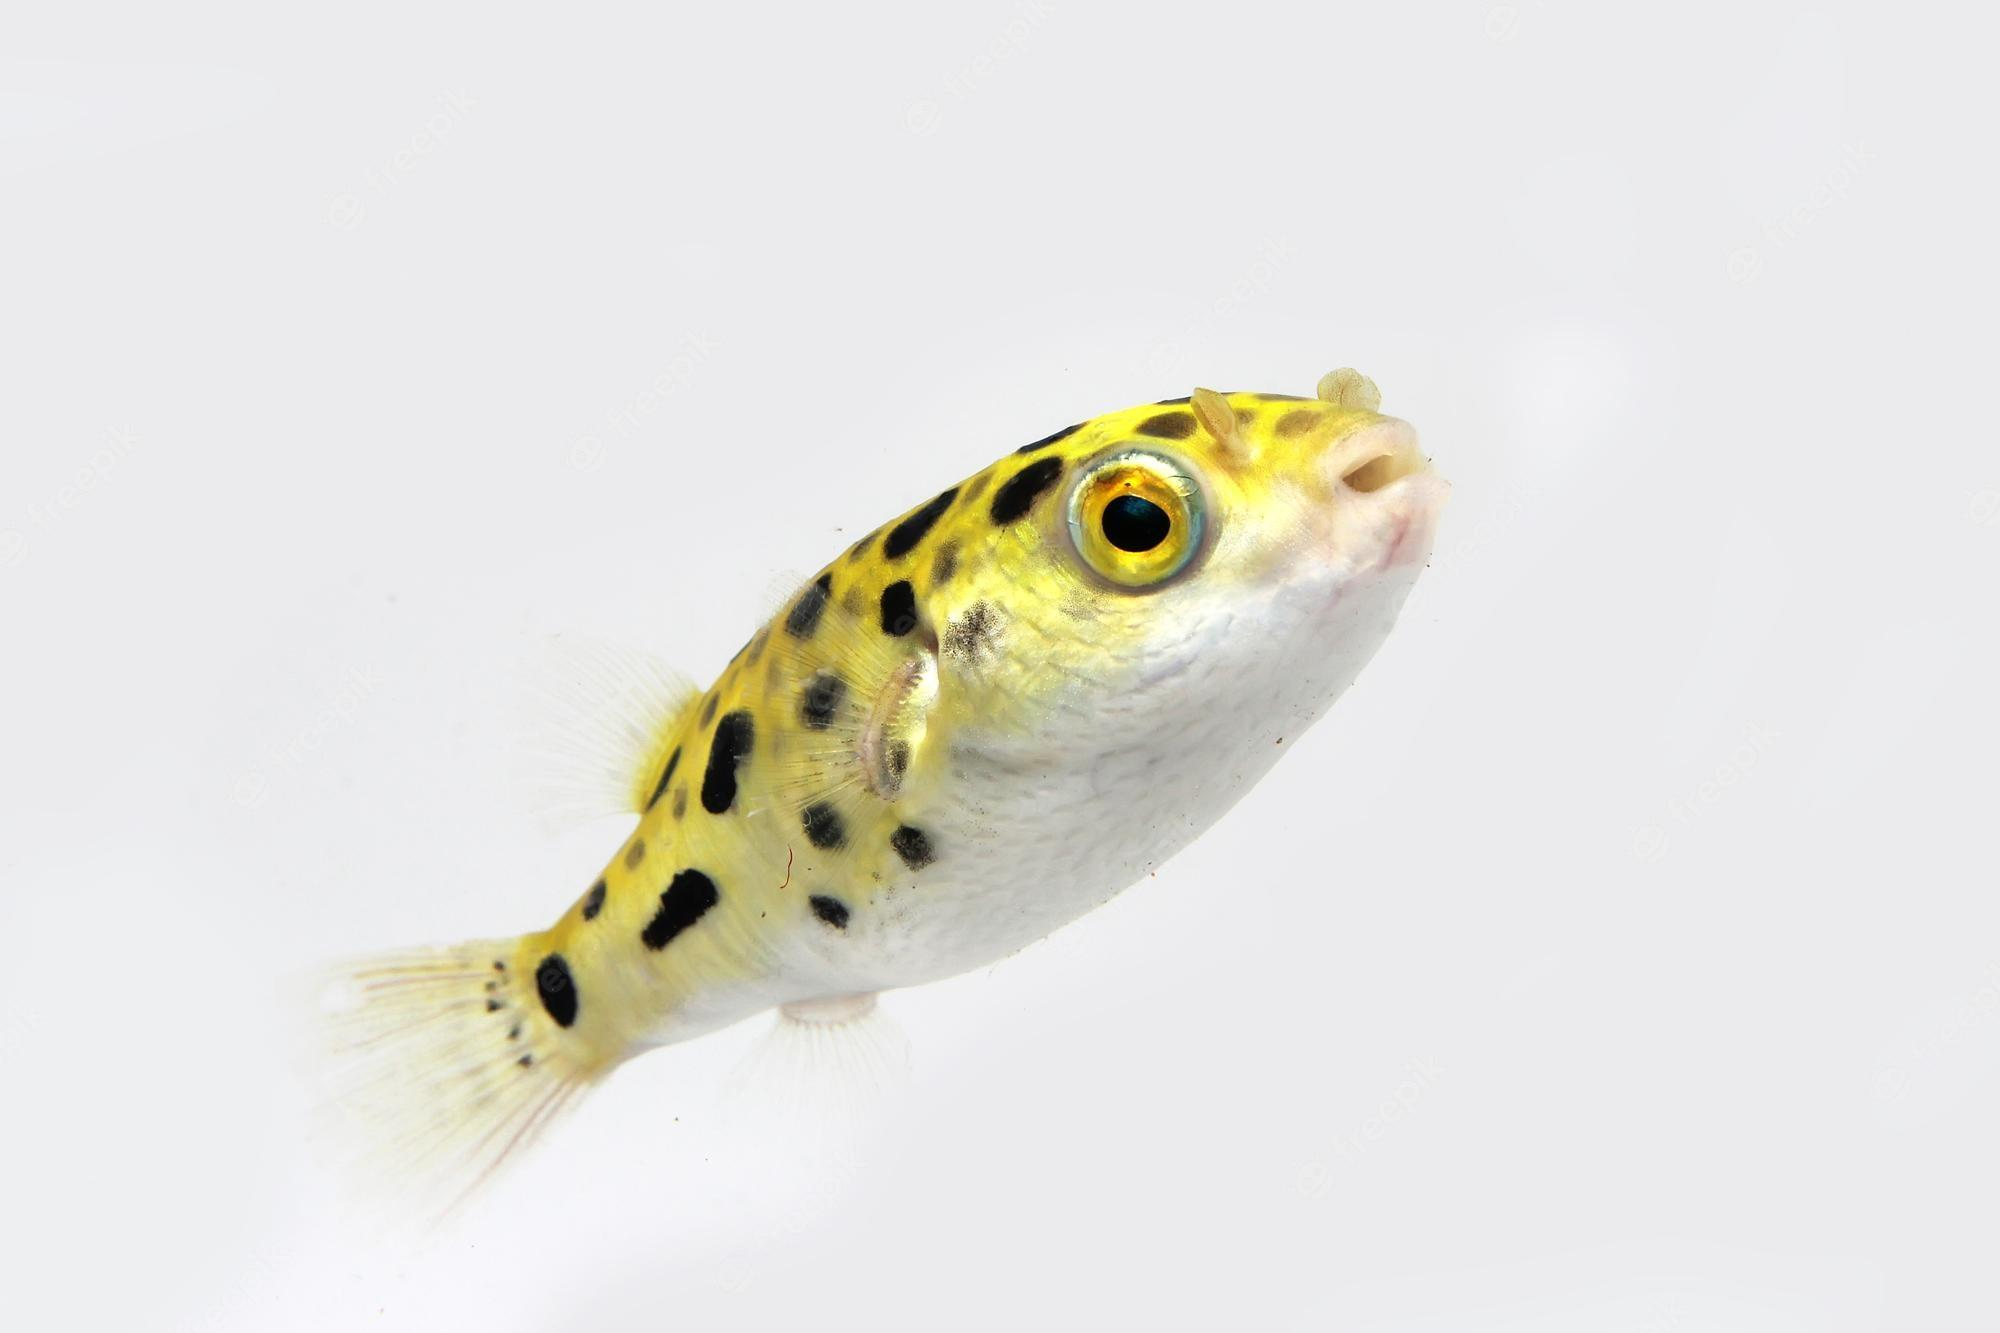Green Spotted Puffer: (332, 360, 1444, 1210)
